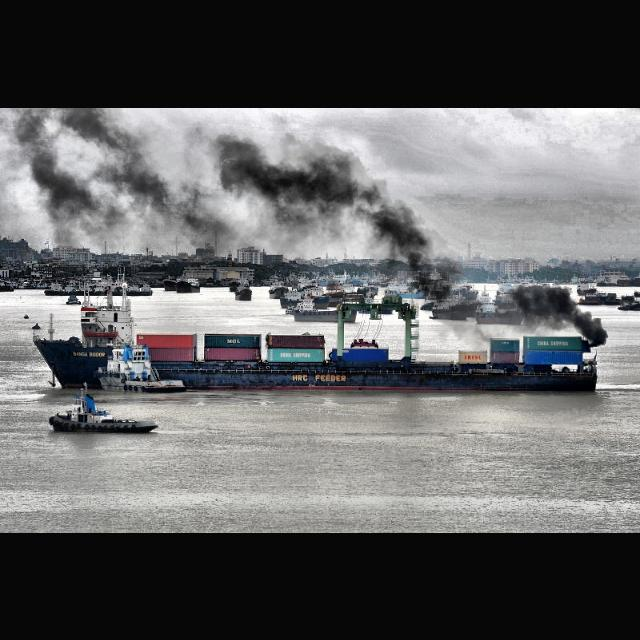anchor_handling_tug_supply: (95, 342, 187, 394)
container: (33, 283, 603, 391)
tug: (46, 388, 160, 436)
